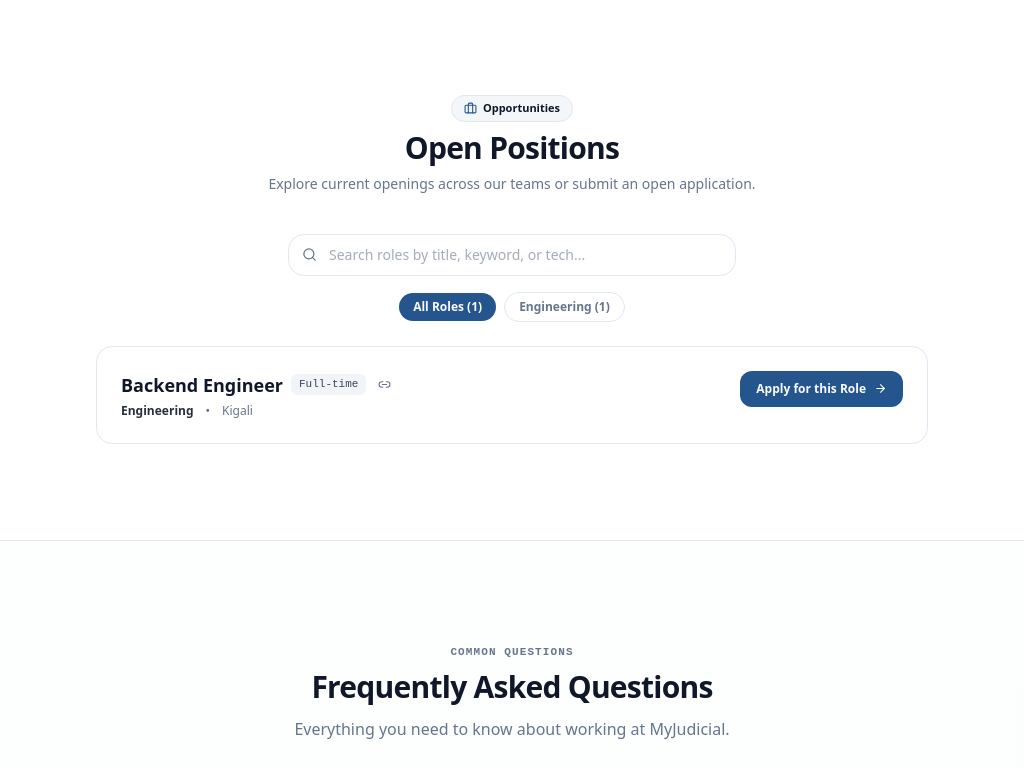
Test: Careers — open positions › copies role deep link to clipboard and provides feedback
(page scrolled)
Step 1. Click the button named "Copy link to position" → (385, 384), box [374,374,395,395]
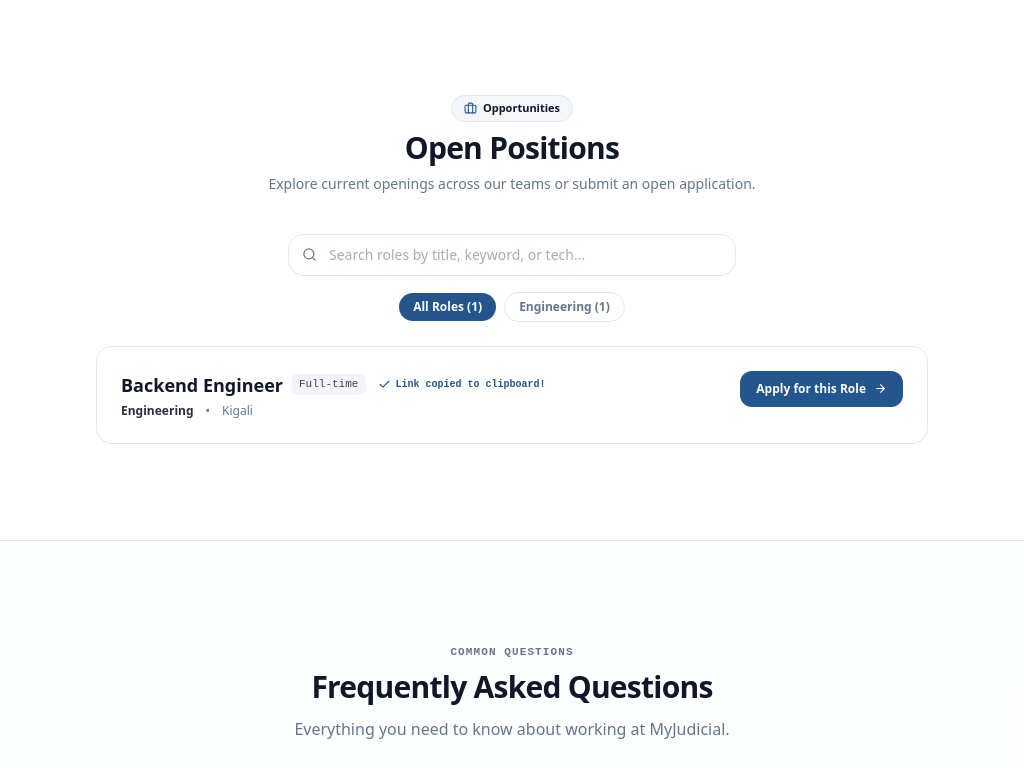
Expected: the text "Link copied to clipboard!" is shown, [395,377,545,392]
